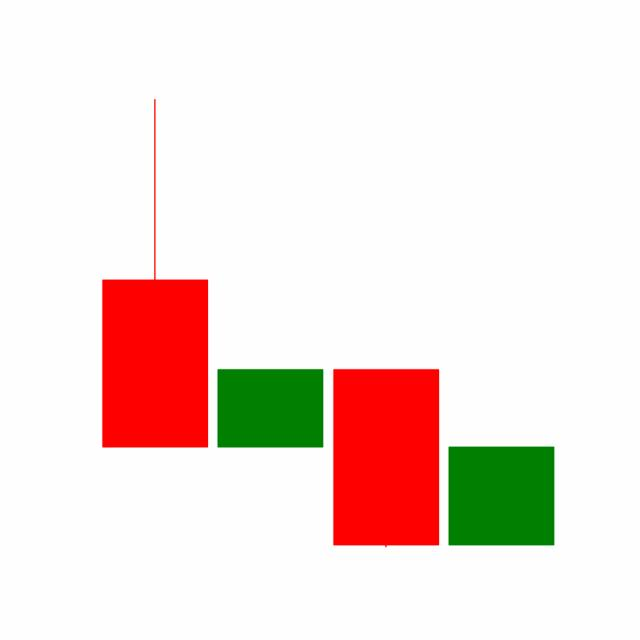Marubozu: (328, 367, 444, 549)
